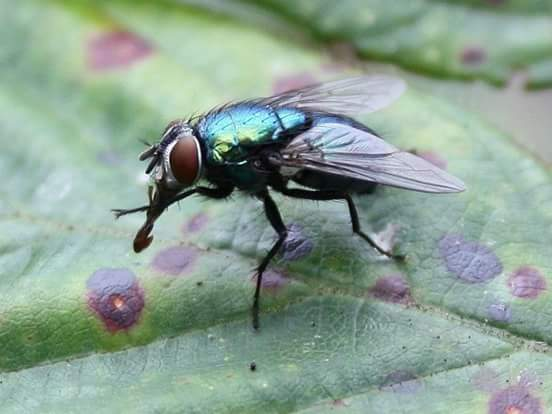green bottles fly: (105, 41, 466, 345)
